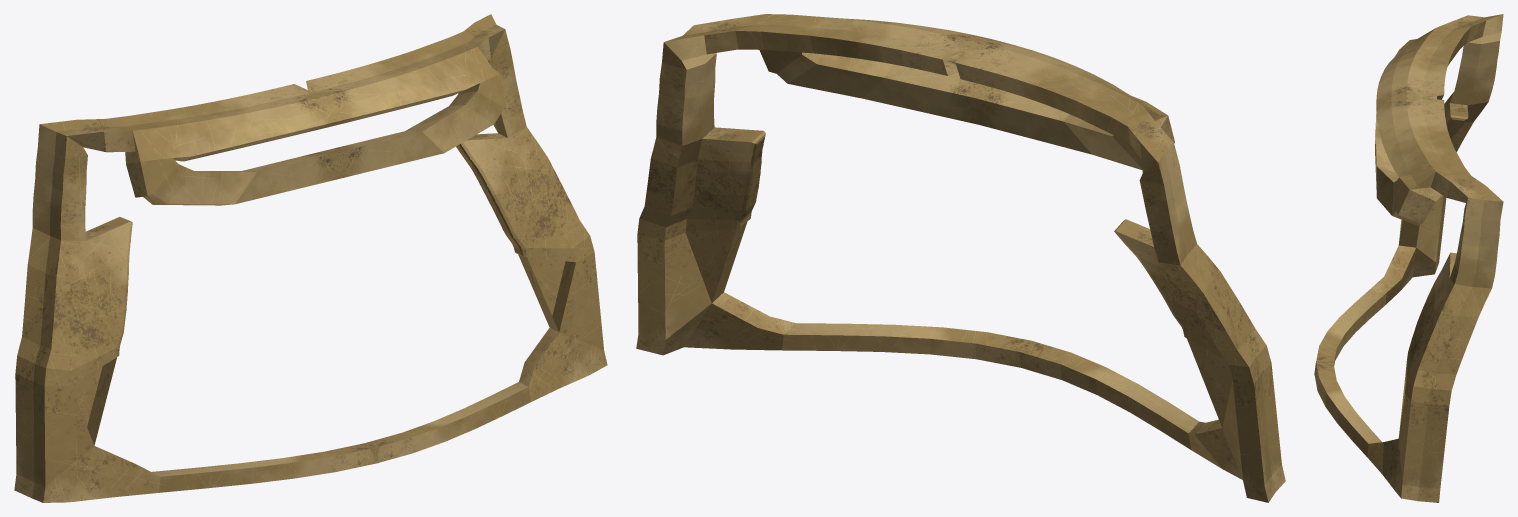
File: flame.glb
3 renders of one model, left to right at view 1: azimuth 30°, elevation 25°; view 2: azimuth 150°, elevation 25°; view 3: azimuth 270°, elevation 25°, orthographic. The views are drawn at different scales.
Visible parts, largest first — view 1: flame.002; view 2: flame.002; view 3: flame.002.
Part boxes in pixels (<box>): flame.002: <box>14,14,607,502</box>; flame.002: <box>636,14,1285,502</box>; flame.002: <box>1314,14,1503,502</box>.
Size of the model in its own units: 2.03 by 1.15 by 0.6775.
Materials: 1 (1 with a texture image).
